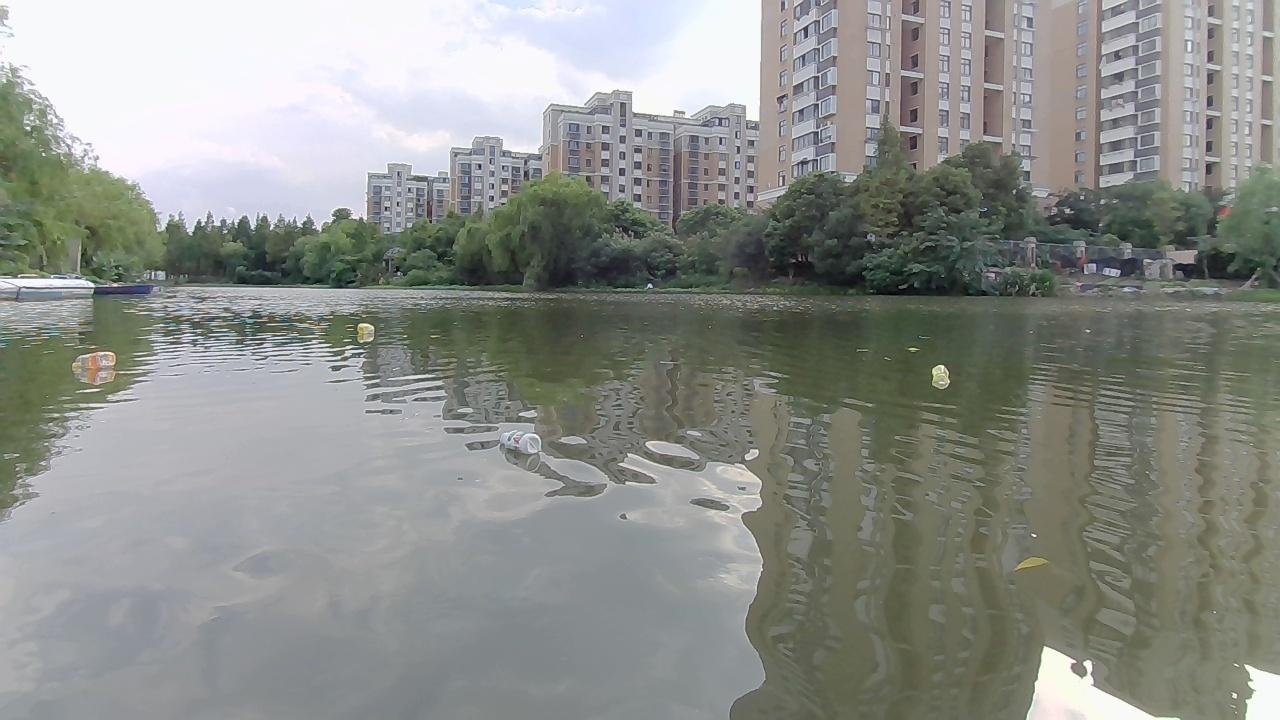bottle: (71, 349, 115, 369), (498, 432, 539, 452), (932, 366, 947, 390), (356, 322, 373, 337)
